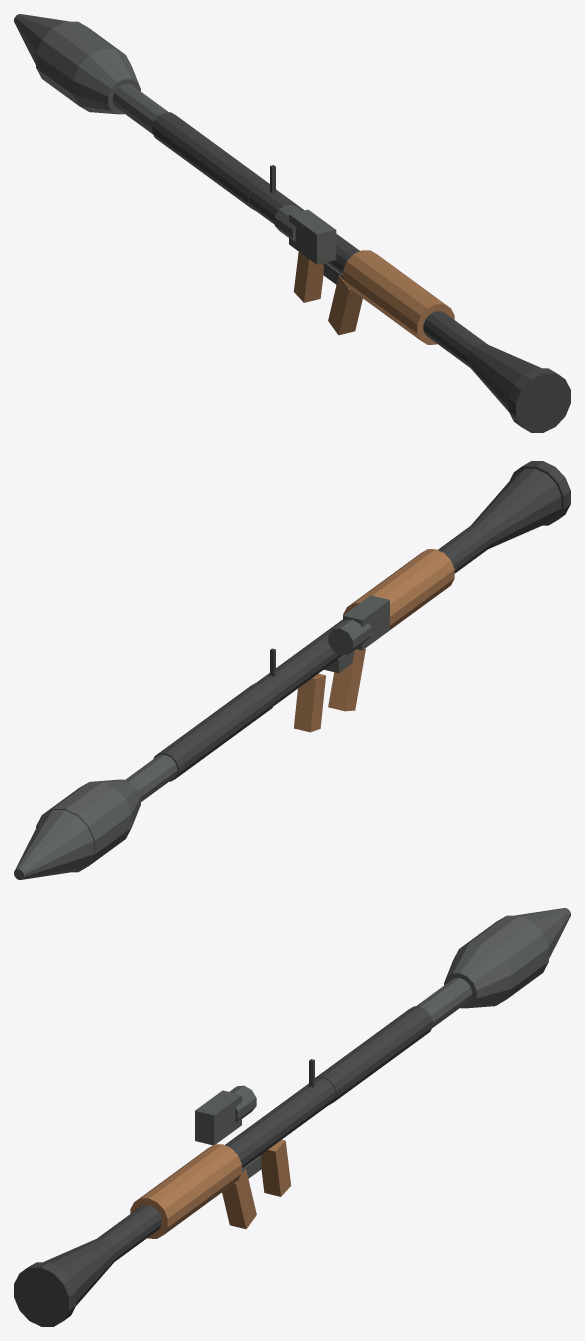
Rendered from rpg.glb.
The picture shows the model from 3 angles, top to bottom: view 1: azimuth 30°, elevation 25°; view 2: azimuth 150°, elevation 25°; view 3: azimuth 330°, elevation 25°; orthographic projection.
Parts seen in each view (by area): view 1: rpg; view 2: rpg; view 3: rpg.
Boxes of the visible parts, box(x1,y1,x2,y2) form: rpg: box(14, 14, 570, 432); rpg: box(14, 461, 570, 879); rpg: box(14, 908, 570, 1326).
Bounding box in the file's own units: 0.1068 × 0.1681 × 1.41.
